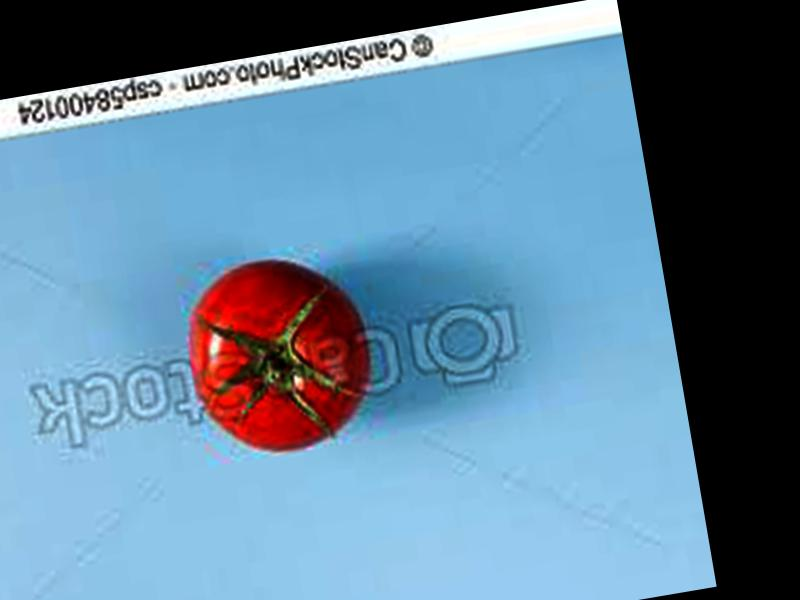Tomato: (177, 243, 379, 463)
